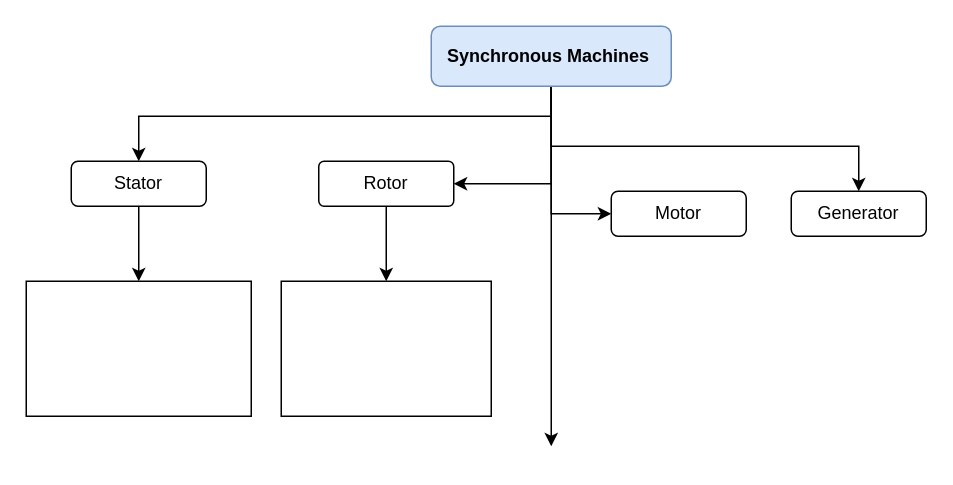
The diagram is 953 pixels wide and 485 high, and some of its shapes have lost their labels. Here are the shapes that lost their labels. From the top down, the centre of each, then its label:
(138,348): Stationary Part Armature Coils 3 Phase Voltage Star Connection
(385,348): Rotating Part Field Coils DC Voltage
